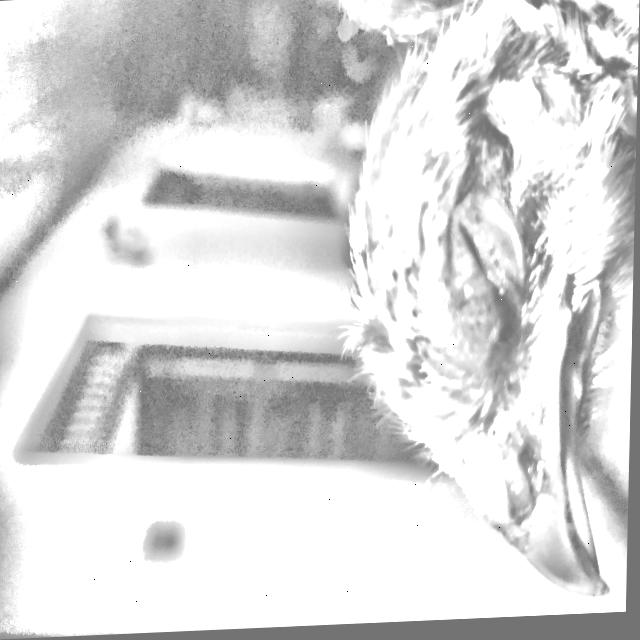Coryza: (335, 21, 619, 628)
